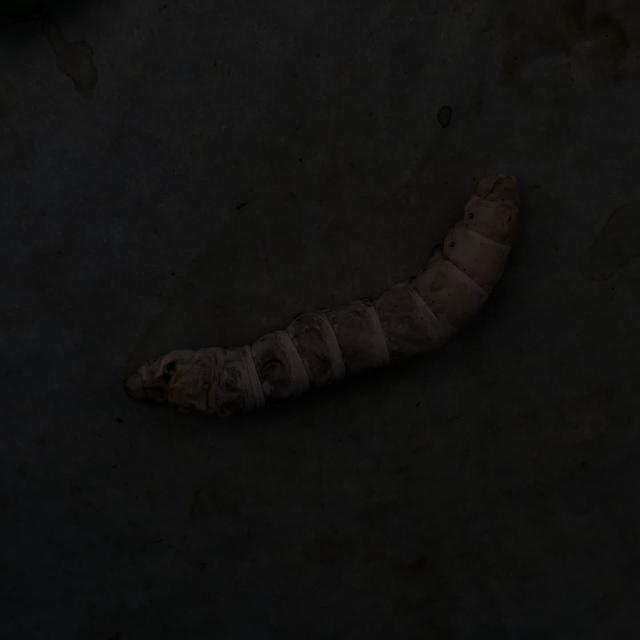Grasserie: (101, 128, 555, 457)
